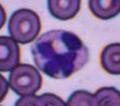N: (31, 28, 89, 78)
